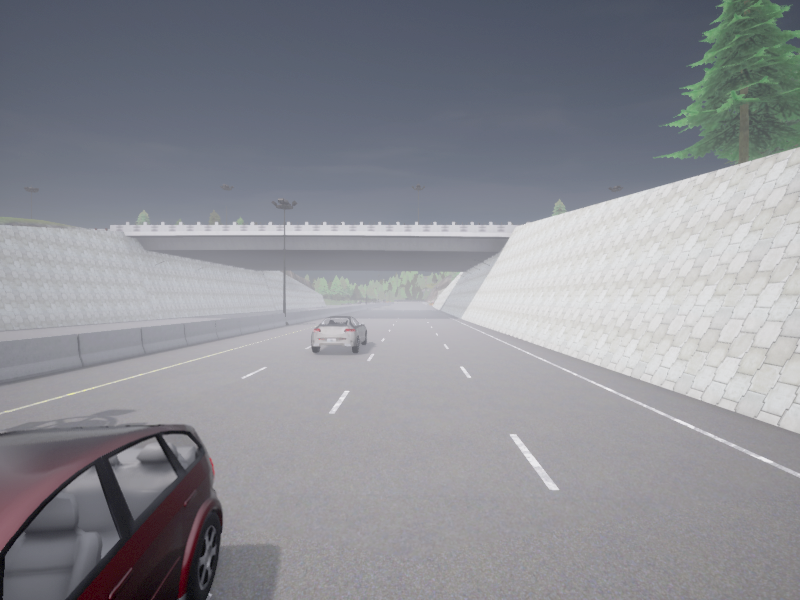vehicle: (0, 424, 222, 599), (311, 316, 366, 352)
